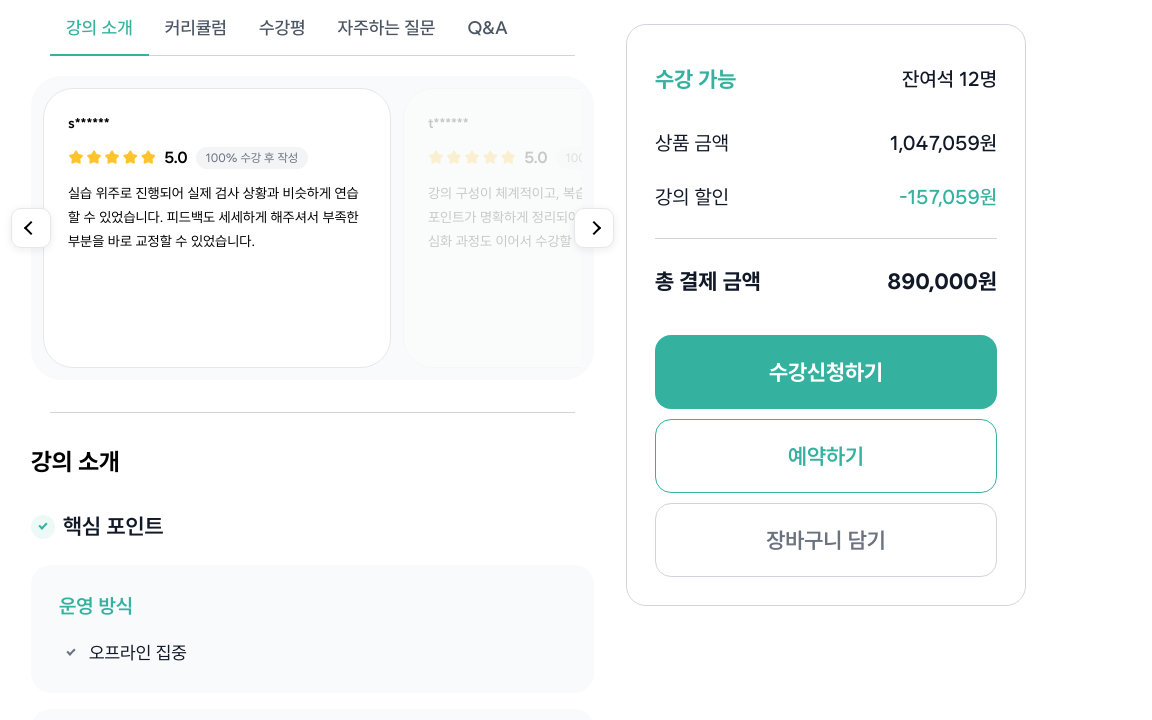
ProgramPage › opens the reservation inquiry modal when the reservation action is clicked
The width and height of the screenshot is (1152, 720).
(page scrolled)
Click the button "예약하기" at (826, 456), box [655, 419, 997, 493]
(page scrolled)
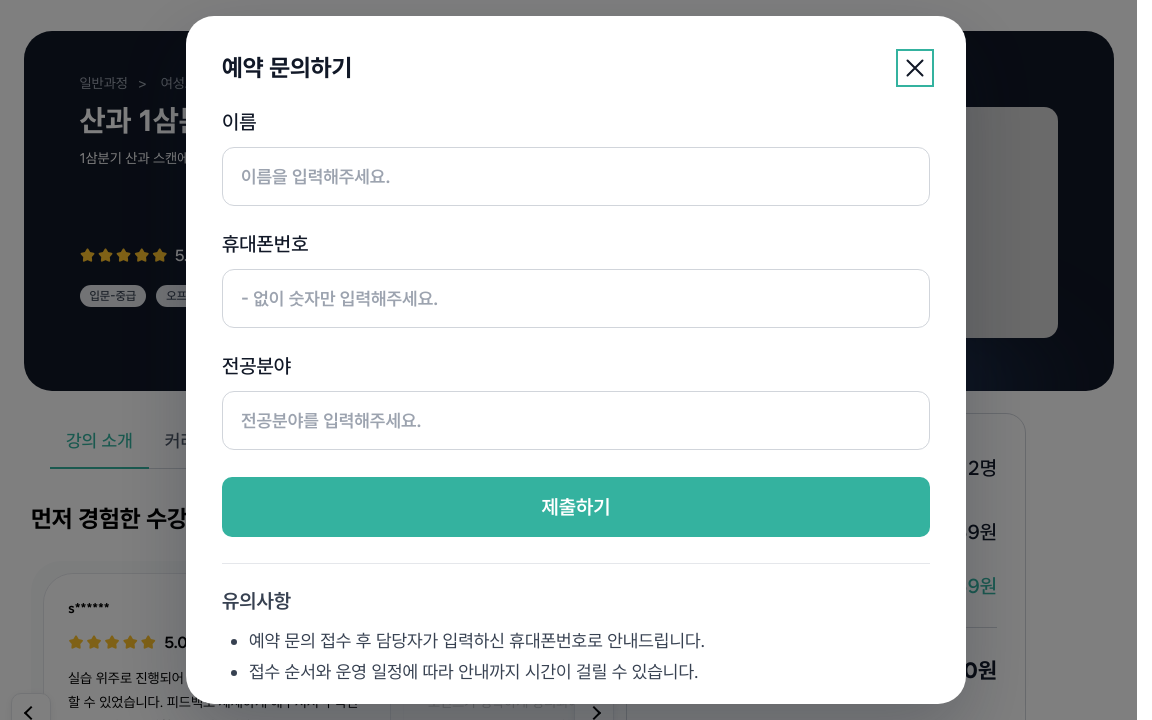
Now the heading "예약 문의하기" is shown, box [222, 52, 352, 83]
Now the list item "예약 문의 접수 후 담당자가 입력하신 휴대폰번호로 안내드립니다." is shown, box [249, 630, 705, 651]
Now the list item "접수 순서와 운영 일정에 따라 안내까지 시간이 걸릴 수 있습니다." is shown, box [249, 661, 698, 682]
